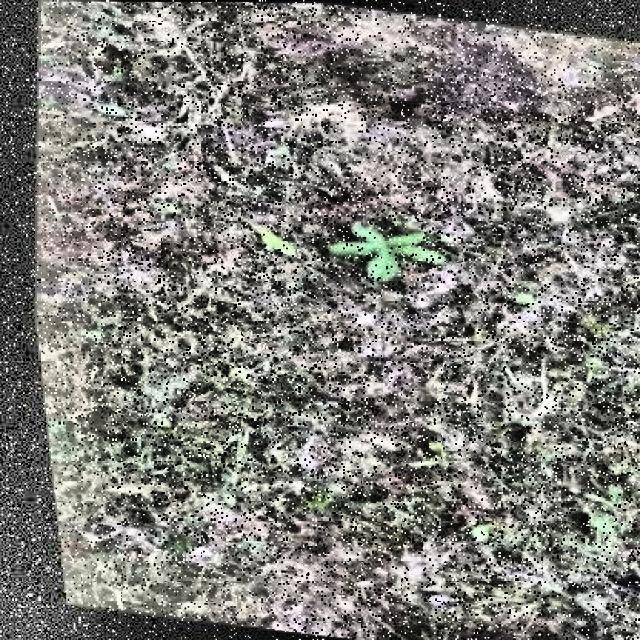Weeds: (318, 208, 447, 288)
